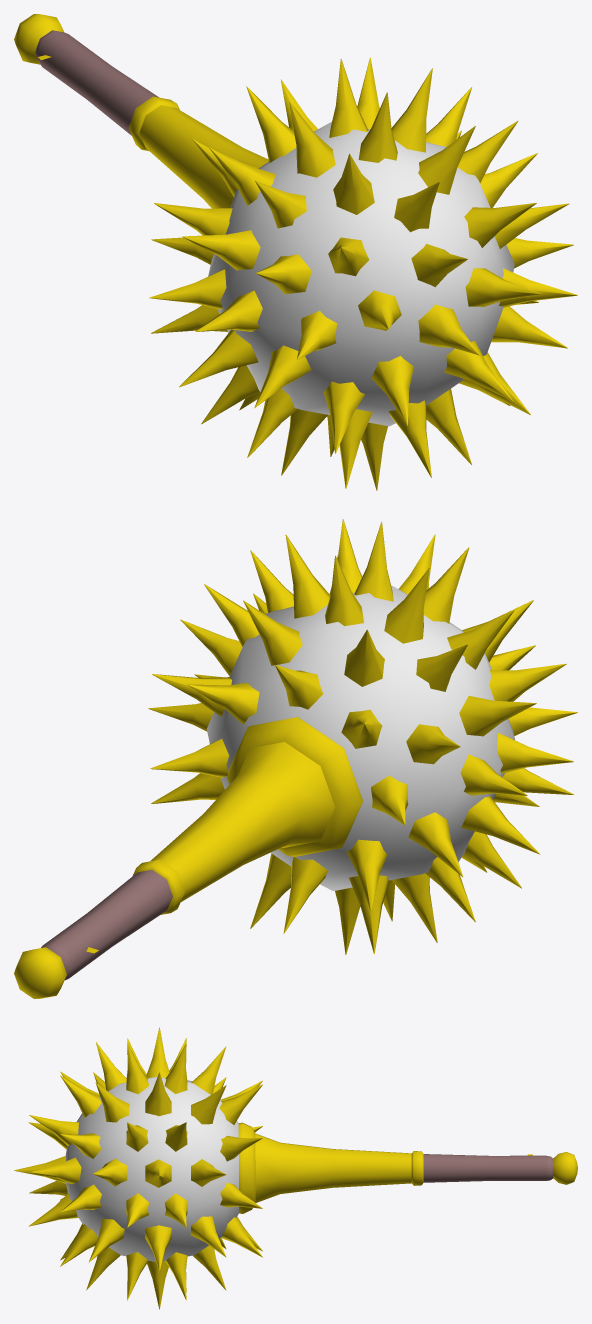
The model's file is third new gada.fbx.
3 renders of one model, top to bottom at view 1: azimuth 30°, elevation 25°; view 2: azimuth 150°, elevation 25°; view 3: azimuth 270°, elevation 25°, orthographic. The views are drawn at different scales.
Parts seen in each view (by area): view 1: polySurface8; view 2: polySurface8; view 3: polySurface8.
Part boxes in pixels (left/top/right/bottom): polySurface8: left=14, top=14, right=577, bottom=490; polySurface8: left=14, top=519, right=577, bottom=998; polySurface8: left=14, top=1027, right=577, bottom=1309.
Size of the model in its own units: 9.33 by 9.33 by 18.9.
